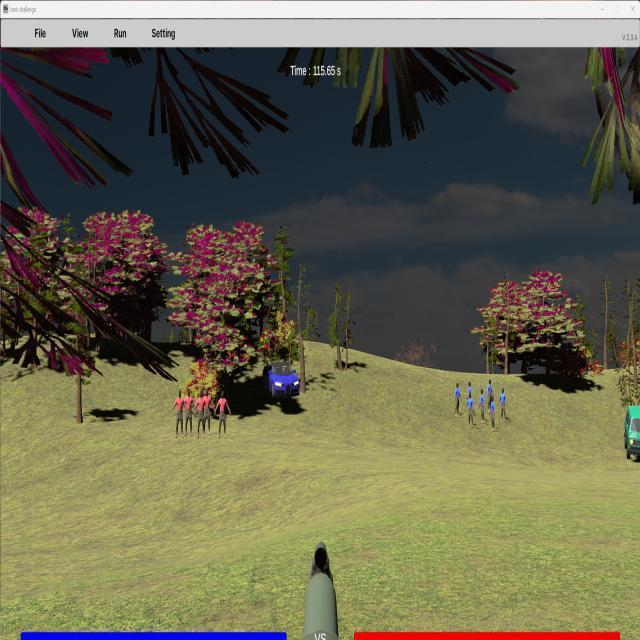Human: (193, 390, 210, 438), (215, 390, 231, 440), (171, 389, 187, 438), (180, 389, 196, 437), (201, 389, 215, 433)
car: (261, 361, 300, 398), (624, 404, 640, 464)
